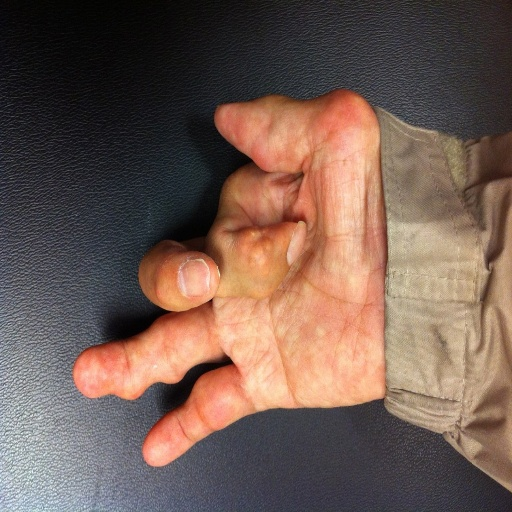hand: (73, 87, 384, 467)
